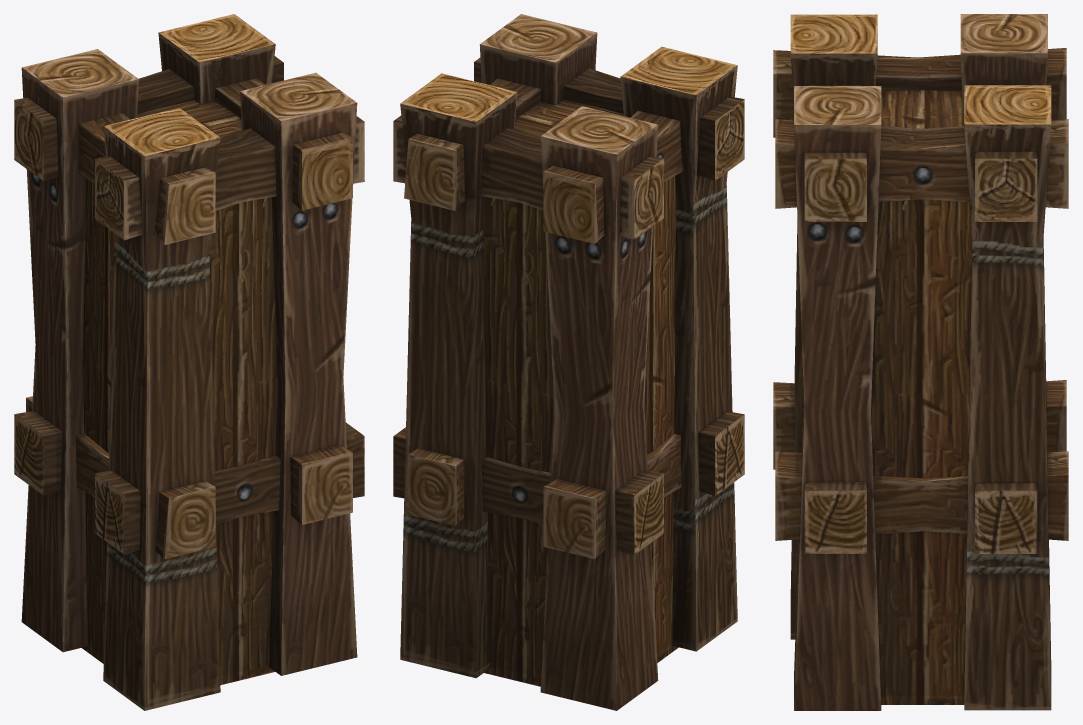
The model's file is Wall_wood_el1.fbx.
3 renders of one model, left to right at view 1: azimuth 30°, elevation 25°; view 2: azimuth 150°, elevation 25°; view 3: azimuth 270°, elevation 25°, orthographic. The views are drawn at different scales.
Visible parts, largest first — view 1: towers_2_1; view 2: towers_2_1; view 3: towers_2_1.
Boxes of the visible parts, bbox=[...] form: towers_2_1: bbox=[14, 14, 364, 710]; towers_2_1: bbox=[393, 14, 744, 710]; towers_2_1: bbox=[773, 14, 1068, 710].
Size of the model in its own units: 0.97 by 2.16 by 0.9759.
